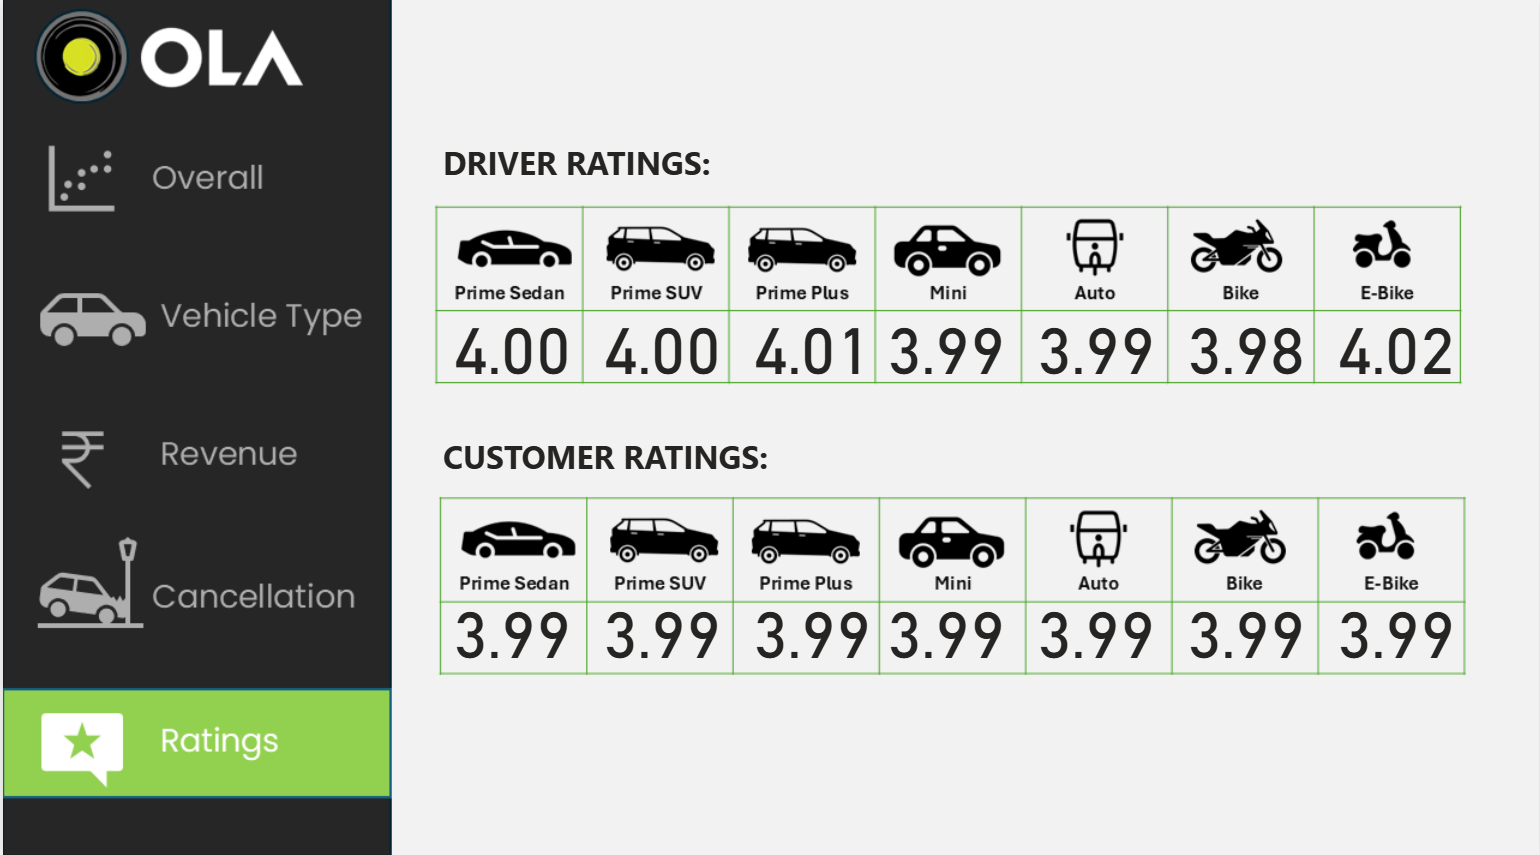

The page's visual inventory and layout, read from the dashboard file:
{"tool":"powerbi","page":{"name":"Ratings","canvas":[1280,720],"ordinal":4},"visuals":[{"type":"actionButton","box":[0,115.4,321.8,78],"z":0},{"type":"actionButton","box":[0,234,321.8,89.4],"z":1},{"type":"actionButton","box":[0,341.3,321.8,97.5],"z":2},{"type":"actionButton","box":[0,438.8,321.8,120.3],"z":3},{"type":"card","fields":{"Values":["Avg(Bookings-40000-Rows - July (2).Driver_Ratings)"]},"box":[361.7,255.6,125,68.2],"z":4},{"type":"card","fields":{"Values":["Avg(Bookings-40000-Rows - July (2).Driver_Ratings)"]},"box":[486.6,255.6,125,68.2],"z":5},{"type":"card","fields":{"Values":["Avg(Bookings-40000-Rows - July (2).Driver_Ratings)"]},"box":[611.6,255.6,125,68.2],"z":6},{"type":"card","fields":{"Values":["Avg(Bookings-40000-Rows - July (2).Driver_Ratings)"]},"box":[723.3,255.6,125,68.2],"z":7},{"type":"card","fields":{"Values":["Avg(Bookings-40000-Rows - July (2).Driver_Ratings)"]},"box":[848.3,255.6,125,68.2],"z":8},{"type":"card","fields":{"Values":["Avg(Bookings-40000-Rows - July (2).Driver_Ratings)"]},"box":[973.3,255.6,125,68.2],"z":9},{"type":"card","fields":{"Values":["Avg(Bookings-40000-Rows - July (2).Driver_Ratings)"]},"box":[1098.2,255.6,125,68.2],"z":10},{"type":"card","fields":{"Values":["Avg(Bookings-40000-Rows - July (2).Customer_Rating)"]},"box":[361.7,492.3,125,68.2],"z":11},{"type":"card","fields":{"Values":["Avg(Bookings-40000-Rows - July (2).Customer_Rating)"]},"box":[486.6,492.3,125,68.2],"z":12},{"type":"card","fields":{"Values":["Avg(Bookings-40000-Rows - July (2).Customer_Rating)"]},"box":[611.6,492.3,125,68.2],"z":13},{"type":"card","fields":{"Values":["Avg(Bookings-40000-Rows - July (2).Customer_Rating)"]},"box":[723.3,492.3,125,68.2],"z":14},{"type":"card","fields":{"Values":["Avg(Bookings-40000-Rows - July (2).Customer_Rating)"]},"box":[848.3,492.3,125,68.2],"z":15},{"type":"card","fields":{"Values":["Avg(Bookings-40000-Rows - July (2).Customer_Rating)"]},"box":[973.3,492.3,125,68.2],"z":16},{"type":"card","fields":{"Values":["Avg(Bookings-40000-Rows - July (2).Customer_Rating)"]},"box":[1098.2,492.3,125,68.2],"z":17},{"type":"textbox","box":[362.4,115.4,248.7,58.5],"z":18},{"type":"textbox","box":[361.7,359.8,291.6,62.5],"z":19}]}

Visuals, with their boxes on the page's 1280x720 design canvas (x1, y1, x2, y2). These are canvas units, not pixel positions in the 1540x855 screenshot, which may show the page scaled, cropped or inside an application window:
actionButton: [left=0, top=115, right=322, bottom=193]
actionButton: [left=0, top=234, right=322, bottom=323]
actionButton: [left=0, top=341, right=322, bottom=439]
actionButton: [left=0, top=439, right=322, bottom=559]
card - Avg(Bookings-40000-Rows - July (2).Driver_Ratings): [left=362, top=256, right=487, bottom=324]
card - Avg(Bookings-40000-Rows - July (2).Driver_Ratings): [left=487, top=256, right=612, bottom=324]
card - Avg(Bookings-40000-Rows - July (2).Driver_Ratings): [left=612, top=256, right=737, bottom=324]
card - Avg(Bookings-40000-Rows - July (2).Driver_Ratings): [left=723, top=256, right=848, bottom=324]
card - Avg(Bookings-40000-Rows - July (2).Driver_Ratings): [left=848, top=256, right=973, bottom=324]
card - Avg(Bookings-40000-Rows - July (2).Driver_Ratings): [left=973, top=256, right=1098, bottom=324]
card - Avg(Bookings-40000-Rows - July (2).Driver_Ratings): [left=1098, top=256, right=1223, bottom=324]
card - Avg(Bookings-40000-Rows - July (2).Customer_Rating): [left=362, top=492, right=487, bottom=560]
card - Avg(Bookings-40000-Rows - July (2).Customer_Rating): [left=487, top=492, right=612, bottom=560]
card - Avg(Bookings-40000-Rows - July (2).Customer_Rating): [left=612, top=492, right=737, bottom=560]
card - Avg(Bookings-40000-Rows - July (2).Customer_Rating): [left=723, top=492, right=848, bottom=560]
card - Avg(Bookings-40000-Rows - July (2).Customer_Rating): [left=848, top=492, right=973, bottom=560]
card - Avg(Bookings-40000-Rows - July (2).Customer_Rating): [left=973, top=492, right=1098, bottom=560]
card - Avg(Bookings-40000-Rows - July (2).Customer_Rating): [left=1098, top=492, right=1223, bottom=560]
textbox: [left=362, top=115, right=611, bottom=174]
textbox: [left=362, top=360, right=653, bottom=422]
